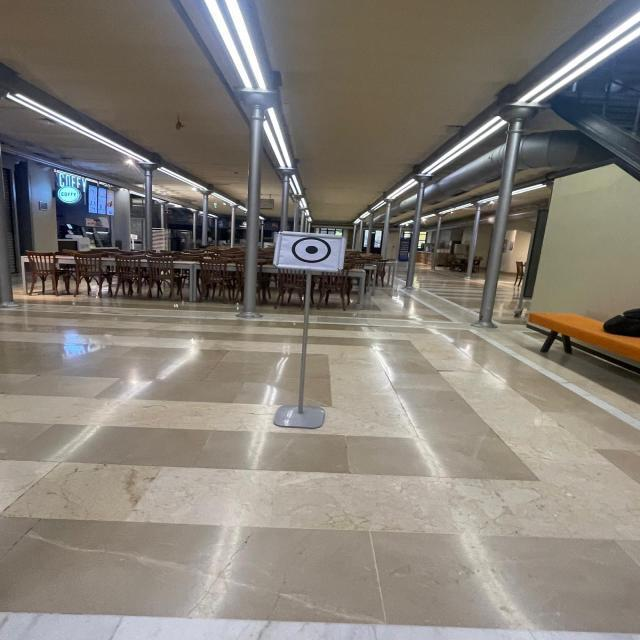Target: (271, 217, 352, 283)
inner: (304, 240, 320, 260)
